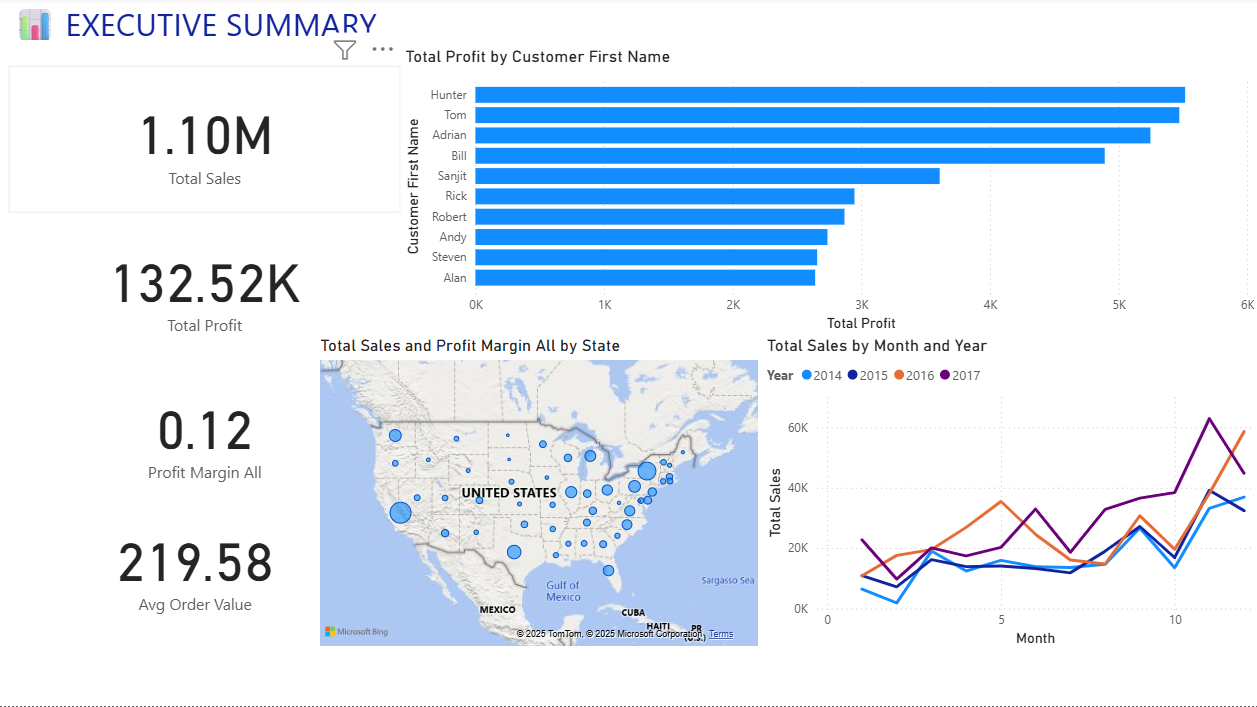

The page's visual inventory and layout, read from the dashboard file:
{"tool":"powerbi","page":{"name":"Executive Summary","canvas":[1280,720],"ordinal":0},"visuals":[{"type":"textbox","box":[9.7,0,398.1,69.3],"z":0},{"type":"card","fields":{"Values":["Orders.Total Sales"]},"box":[9.7,69.3,398.1,149.9],"z":1000},{"type":"card","fields":{"Values":["Orders.Total Profit"]},"box":[9.7,219.2,398.1,149.9],"z":2000},{"type":"card","fields":{"Values":["Orders.Profit Margin All"]},"box":[9.7,369.1,398.1,149.9],"z":3000},{"type":"card","fields":{"Values":["Orders.Avg Order Value"]},"box":[0,502.9,398.1,149.9],"z":4000},{"type":"lineChart","fields":{"Category":["Orders.Month"],"Y":["Orders.Total Sales"],"Series":["Orders.Year"]},"box":[775.2,343.3,504.5,320.7],"z":5000},{"type":"clusteredBarChart","fields":{"Category":["Orders.Customer First Name"],"Y":["Orders.Total Profit"]},"box":[407.8,50,872,293.3],"z":6000},{"type":"map","fields":{"Category":["Orders.State"],"Size":["Orders.Total Sales"]},"box":[320.7,343.3,454.5,320.7],"z":7000}]}

Visuals, with their boxes in screenshot pixels (x1, y1, x2, y2), scaled from the page's 1280x720 canvas onto the 1257x707 screenshot:
textbox: left=10, top=0, right=400, bottom=68
card - Orders.Total Sales: left=10, top=68, right=400, bottom=215
card - Orders.Total Profit: left=10, top=215, right=400, bottom=362
card - Orders.Profit Margin All: left=10, top=362, right=400, bottom=510
card - Orders.Avg Order Value: left=0, top=494, right=391, bottom=641
lineChart - Orders.Month x Orders.Total Sales: left=761, top=337, right=1256, bottom=652
clusteredBarChart - Orders.Customer First Name x Orders.Total Profit: left=400, top=49, right=1256, bottom=337
map - Orders.State x Orders.Total Sales: left=315, top=337, right=761, bottom=652
